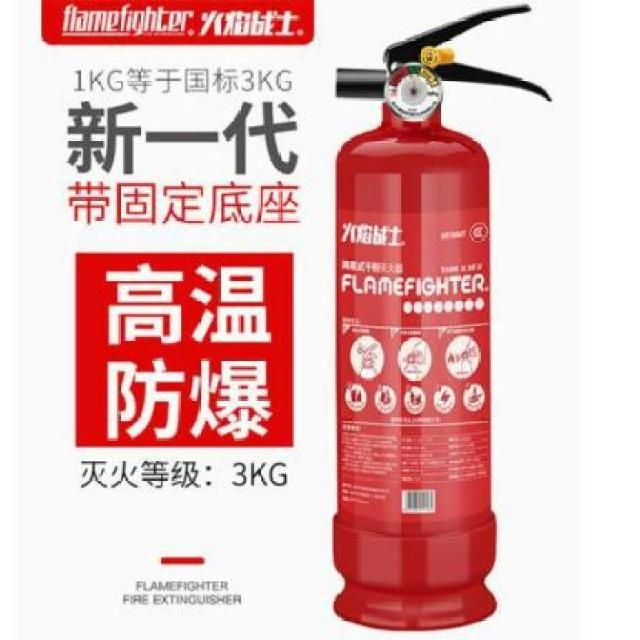fire extinguisher: (332, 3, 553, 632)
